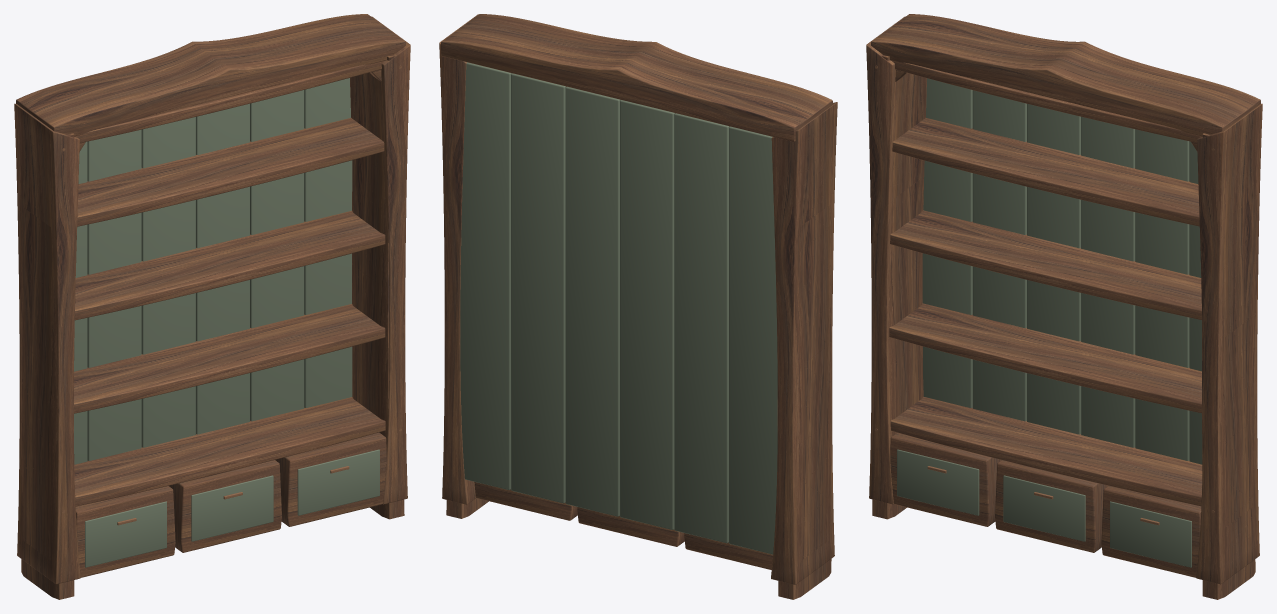
The model's file is CM_SW10_MedicineCabinet.fbx.
3 renders of one model, left to right at view 1: azimuth 30°, elevation 25°; view 2: azimuth 150°, elevation 25°; view 3: azimuth 330°, elevation 25°, orthographic.
Visible parts, largest first — view 1: CM_SW10_MedicineCabinet; view 2: CM_SW10_MedicineCabinet; view 3: CM_SW10_MedicineCabinet.
Part boxes in pixels (x1,y1,x2,y2): CM_SW10_MedicineCabinet: (14,14,410,599); CM_SW10_MedicineCabinet: (439,14,837,599); CM_SW10_MedicineCabinet: (866,14,1262,599).
Size of the model in its own units: 1.85 by 2.4 by 0.3775.
